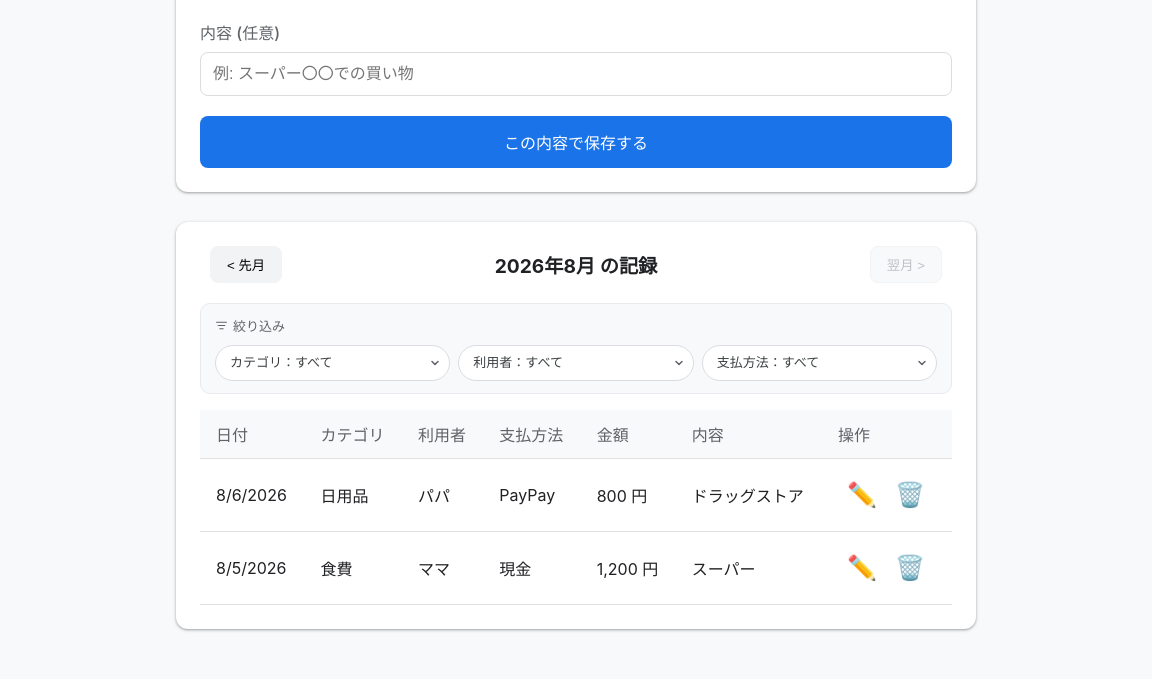
Test: シート側で行が変わっていたら削除せずに中断する
The image size is (1152, 679).
(page scrolled)
Expected: the text "スーパー" is shown, 676,531 -> 822,604
What coordinates should you click on to do the following:
click the button named "削除"
I would click on:
 (910, 495)
Its box is 886,471 -> 934,519.
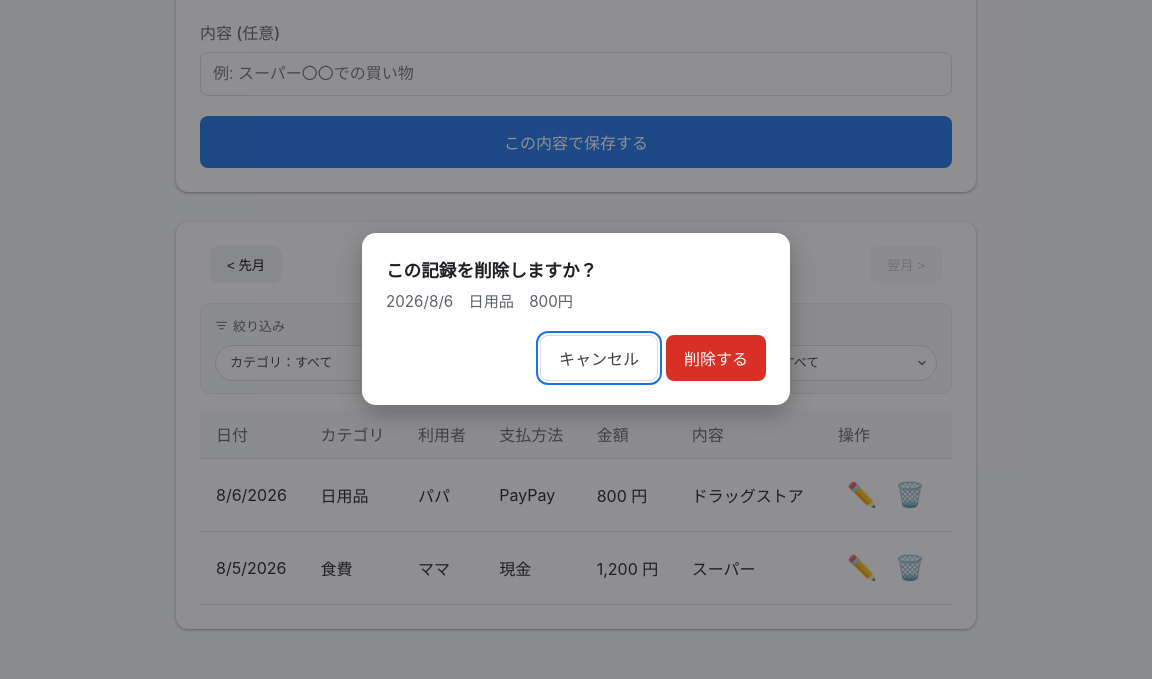
What coordinates should you click on to do the following:
click the button "削除する"
I would click on:
 (716, 358)
Its box is 666,335 -> 766,381.
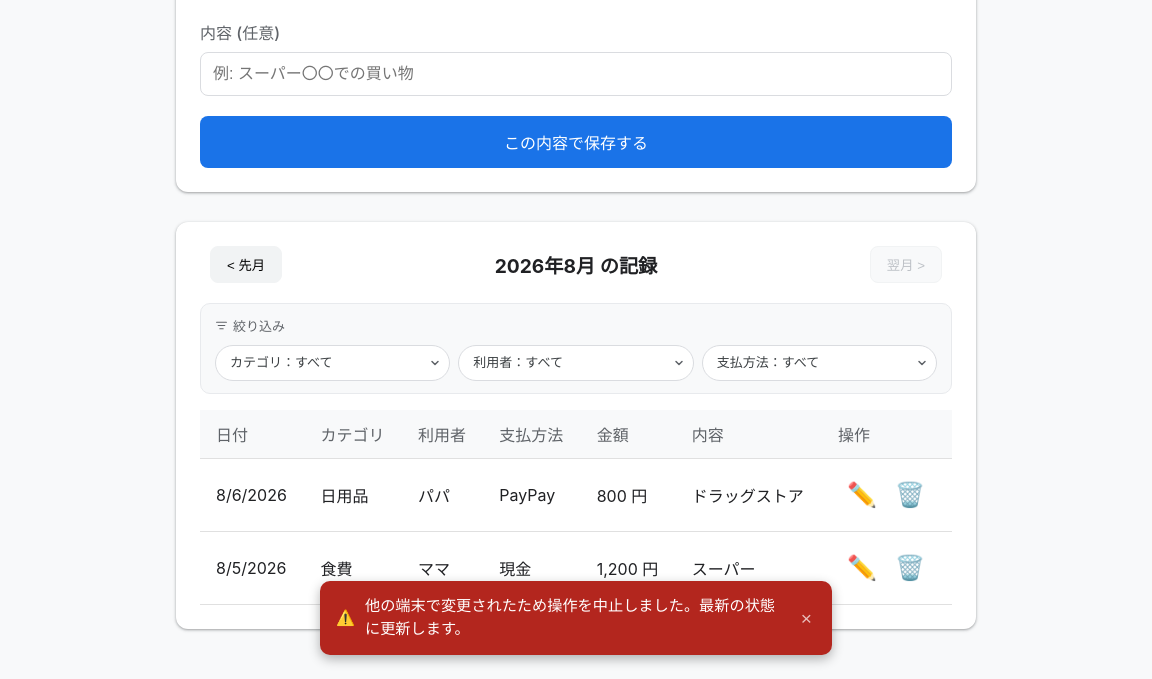
Expected: the text "他の端末で変更されたため操作を中止しました。最新の状態に更新します。" is shown, 365,595 -> 783,641
